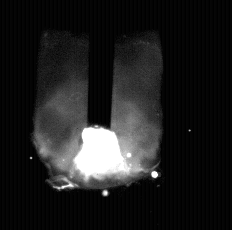arame: (88, 0, 112, 128)
poca: (34, 0, 163, 230)
